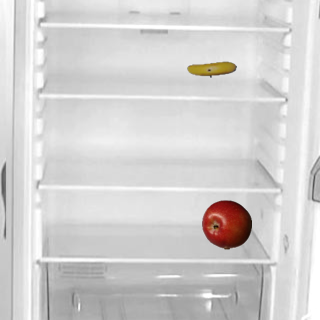Apple Braeburn: (201, 199, 251, 249)
Banana: (186, 44, 236, 94)
